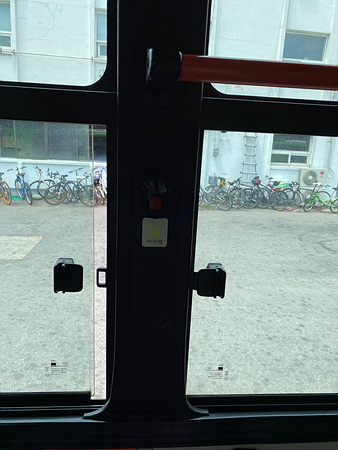bell: (143, 181, 168, 219)
